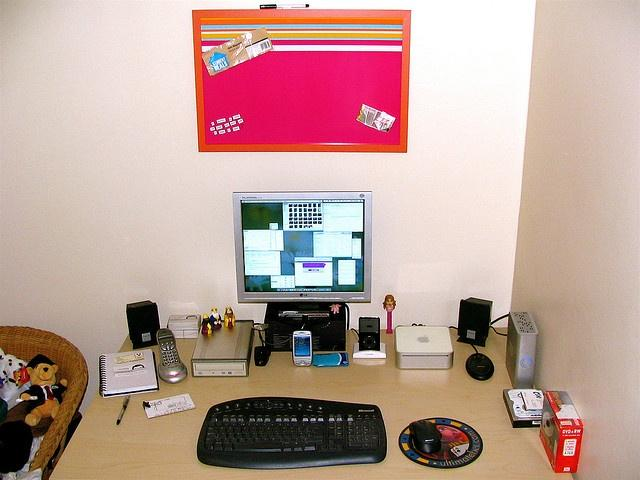AIO PC-Monitor-TV: (233, 189, 371, 304)
